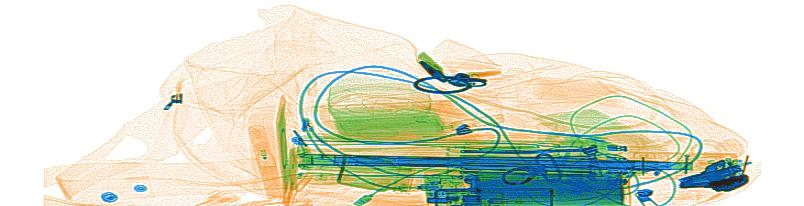plasticBottleWithaNozzle: (246, 123, 284, 200)
